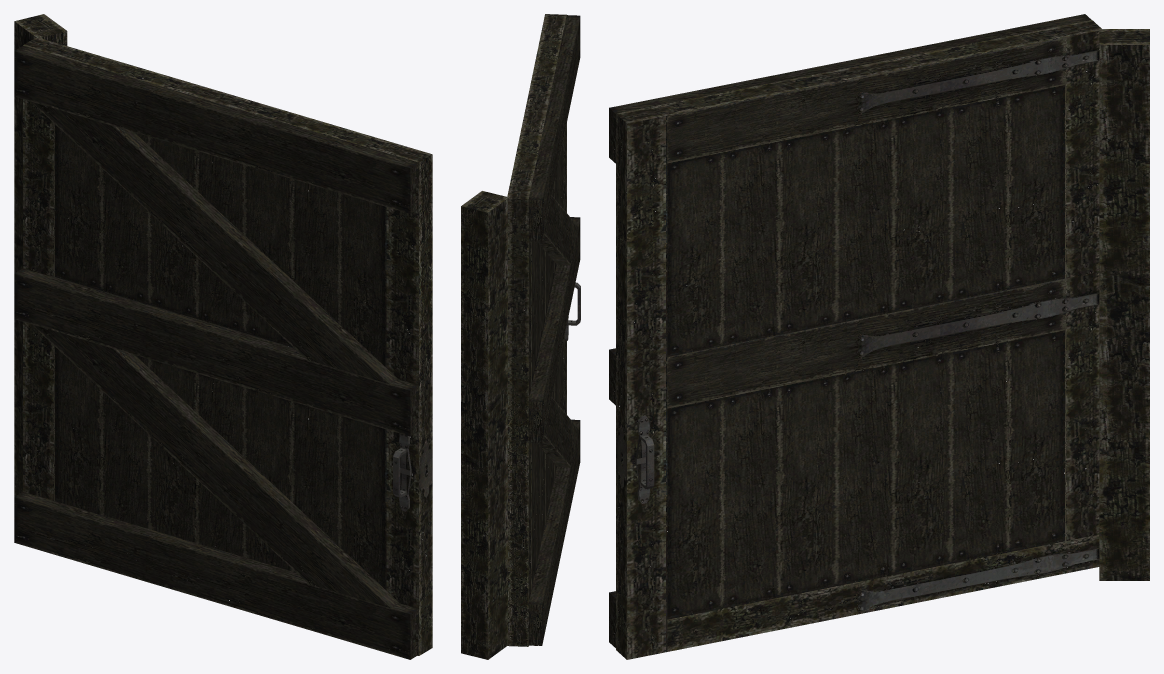
The model's file is pubgate01_open.DAE.
The picture shows the model from 3 angles, left to right: view 1: azimuth 30°, elevation 25°; view 2: azimuth 150°, elevation 25°; view 3: azimuth 270°, elevation 25°; orthographic projection. The views are drawn at different scales.
Parts seen in each view (by area): view 1: Box042, Object092; view 2: Box042, Object092; view 3: Box042, Object092.
Boxes of the visible parts, bbox=[...] form: Box042: bbox=[14, 38, 432, 659]; Object092: bbox=[14, 14, 67, 496]; Box042: bbox=[507, 14, 580, 646]; Object092: bbox=[461, 191, 508, 659]; Box042: bbox=[609, 14, 1101, 659]; Object092: bbox=[1099, 29, 1149, 580].
Bounding box in the file's own units: 1.73 × 3.77 × 3.45.
